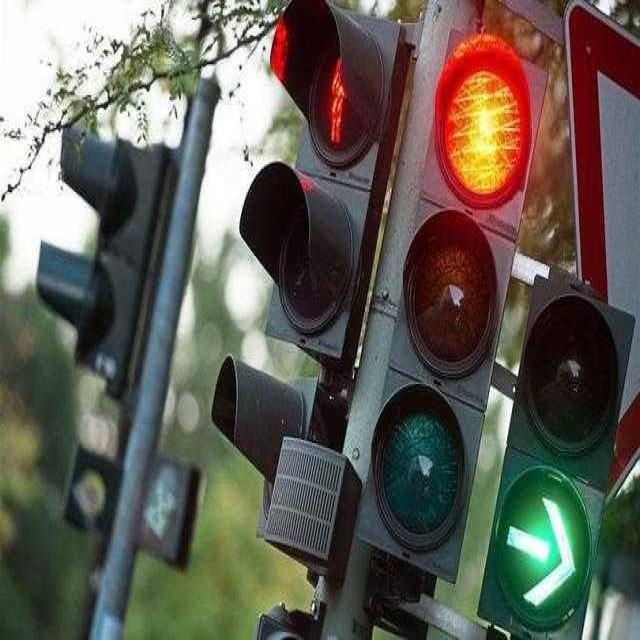Traffic Light -Green-: (501, 285, 632, 633)
Traffic Light -Red-: (390, 39, 496, 544)
